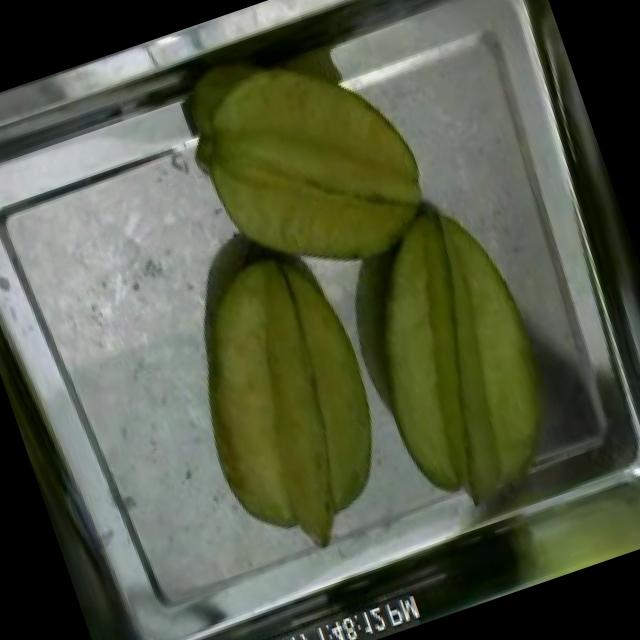fruit: (320, 173, 592, 533), (144, 221, 423, 567), (160, 7, 458, 316), (473, 437, 640, 596)
